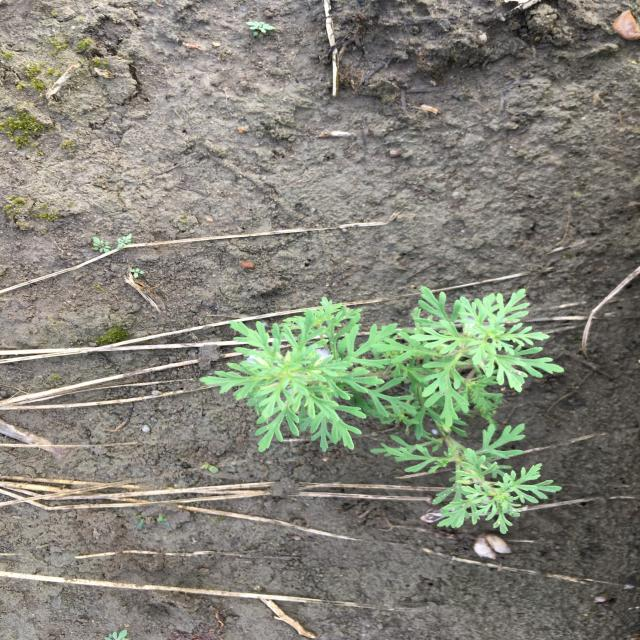Ragweed: (197, 285, 567, 535)
